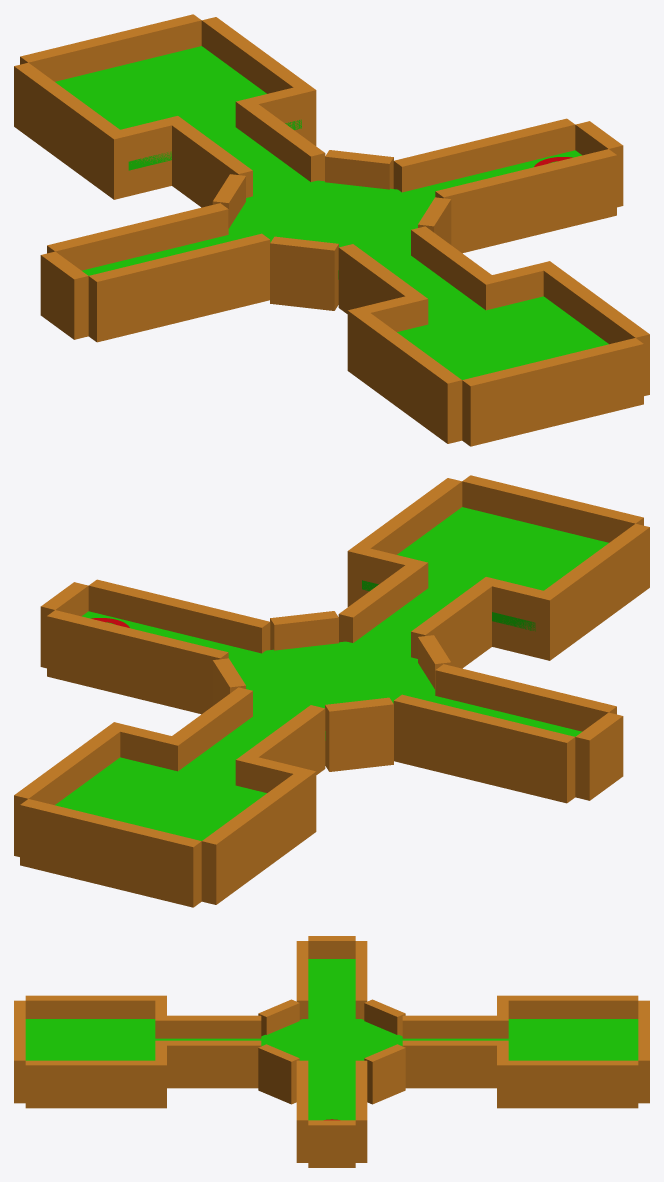
The model's file is Level#4.fbx.
The picture shows the model from 3 angles, top to bottom: view 1: azimuth 30°, elevation 25°; view 2: azimuth 150°, elevation 25°; view 3: azimuth 270°, elevation 25°; orthographic projection. The views are drawn at different scales.
Visible parts, largest first — view 1: Cube.024, Cube.012, Cube.006, Cube.023, Cube.002, Cube.003, Cube.009, Cube.008, Cube.026, Cube.025, Cube.011, Cube.028 (+17 smaller); view 2: Cube.025, Cube.011, Cube.006, Cube.026, Cube.003, Cube.002, Cube.008, Cube.009, Cube.023, Cube.024, Cube.012, Cube.030 (+17 smaller); view 3: Cube.007, Cube.010, Cube.006, Cube.003, Cube.002, Cube.019, Cube.022, Cube.008, Cube.009, Cube.001, Cube.017, Cube.020 (+16 smaller).
Boxes of the visible parts, x1=… form: Cube.024: x1=88, y1=233, x2=270, y2=342; Cube.012: x1=462, y1=338, x2=643, y2=446; Cube.006: x1=216, y1=174, x2=435, y2=279; Cube.023: x1=435, y1=149, x2=616, y2=253; Cube.002: x1=55, y1=46, x2=301, y2=170; Cube.003: x1=397, y1=296, x2=608, y2=379; Cube.009: x1=347, y1=307, x2=462, y2=443; Cube.008: x1=14, y1=62, x2=128, y2=199; Cube.026: x1=393, y1=118, x2=575, y2=192; Cube.025: x1=47, y1=203, x2=228, y2=270; Cube.011: x1=20, y1=14, x2=201, y2=81; Cube.028: x1=270, y1=236, x2=338, y2=310; Cube.025: x1=393, y1=694, x2=575, y2=803; Cube.011: x1=20, y1=799, x2=201, y2=907; Cube.006: x1=228, y1=635, x2=447, y2=740; Cube.026: x1=47, y1=610, x2=228, y2=714; Cube.003: x1=362, y1=507, x2=608, y2=631; Cube.002: x1=55, y1=757, x2=266, y2=840; Cube.008: x1=201, y1=768, x2=316, y2=904; Cube.009: x1=535, y1=523, x2=649, y2=660; Cube.023: x1=88, y1=579, x2=270, y2=653; Cube.024: x1=435, y1=664, x2=616, y2=731; Cube.012: x1=462, y1=475, x2=643, y2=542; Cube.030: x1=325, y1=697, x2=393, y2=771; Cube.007: x1=497, y1=1060, x2=638, y2=1108; Cube.010: x1=25, y1=1060, x2=166, y2=1108; Cube.006: x1=252, y1=1006, x2=411, y2=1090; Cube.003: x1=25, y1=1019, x2=166, y2=1060; Cube.002: x1=497, y1=1019, x2=638, y2=1060; Cube.019: x1=402, y1=1040, x2=496, y2=1088; Cube.022: x1=167, y1=1040, x2=261, y2=1088; Cube.008: x1=497, y1=995, x2=638, y2=1018; Cube.009: x1=25, y1=995, x2=166, y2=1018; Cube.001: x1=308, y1=979, x2=355, y2=1118; Cube.017: x1=308, y1=1120, x2=355, y2=1167; Cube.020: x1=402, y1=1015, x2=496, y2=1038.
Size of the model in its own units: 1900 by 200 by 2700.
